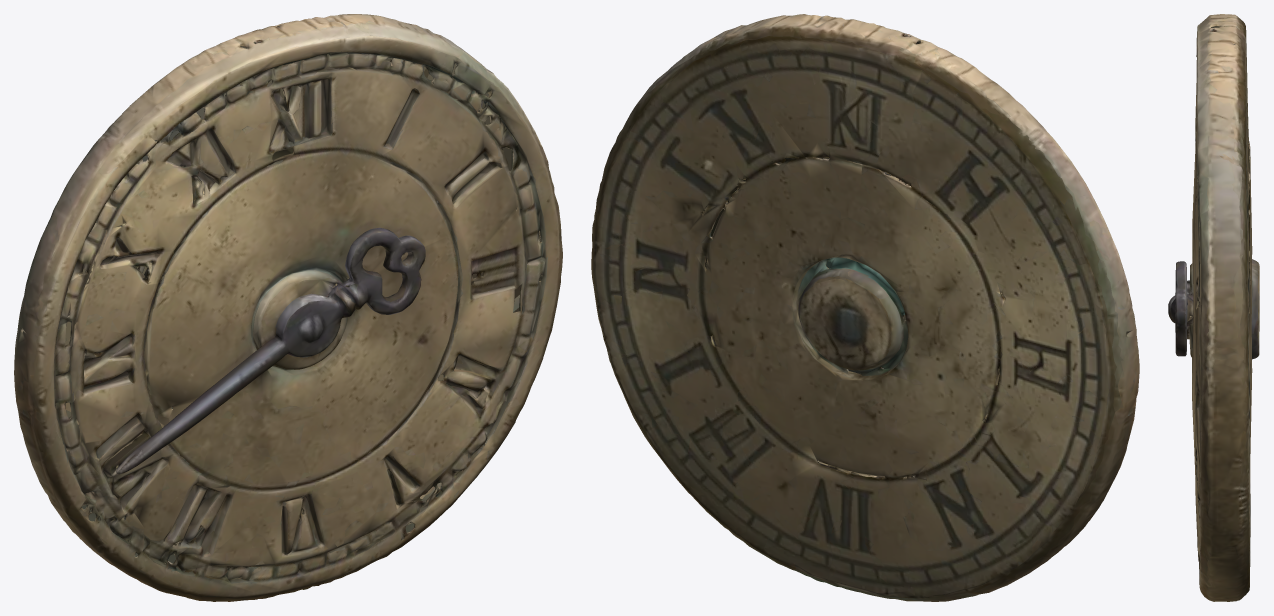
The model's file is obj_basement_dial_3_body.glb.
3 views of the same model, side by side, from view 1: azimuth 30°, elevation 25°; view 2: azimuth 150°, elevation 25°; view 3: azimuth 270°, elevation 25° (orthographic). The views are drawn at different scales.
Parts seen in each view (by area): view 1: geometry_0; view 2: geometry_0; view 3: geometry_0.
Part boxes in pixels (bbox=[...]): geometry_0: bbox=[14, 14, 562, 601]; geometry_0: bbox=[591, 14, 1139, 601]; geometry_0: bbox=[1168, 14, 1259, 601].
Size of the model in its own units: 0.15 by 0.15 by 0.0236.
1 material, 1 textured.
